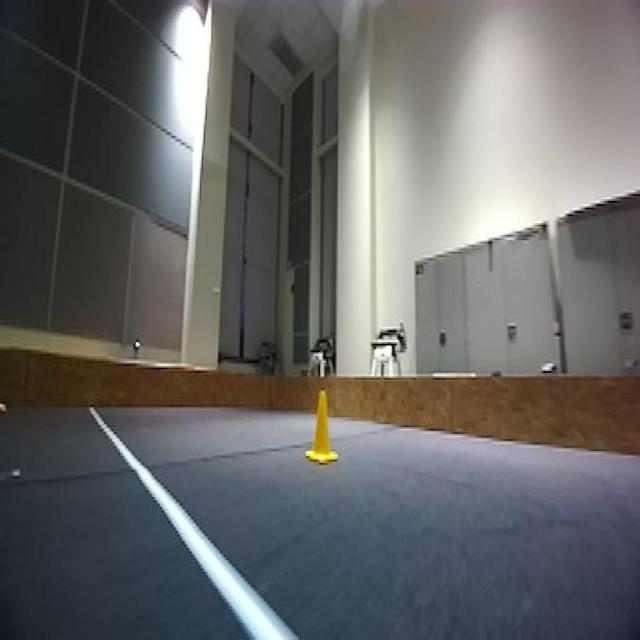frc_cone: (307, 390, 340, 461)
